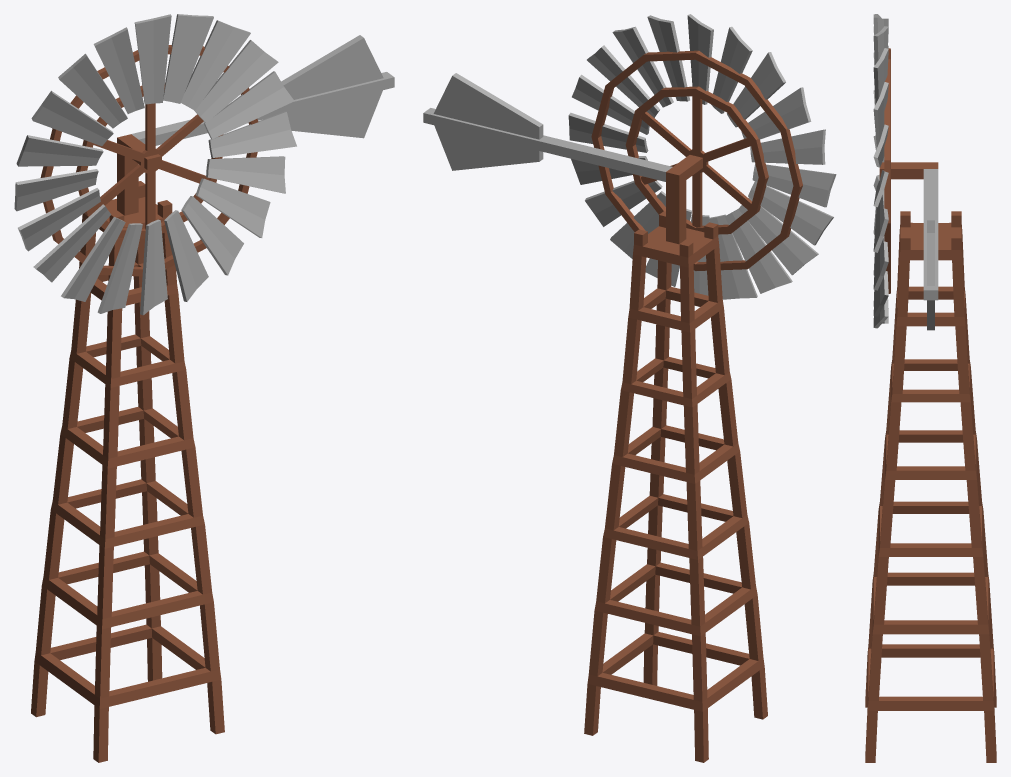
The model's file is Windmill.fbx.
3 views of the same model, side by side, from view 1: azimuth 30°, elevation 25°; view 2: azimuth 150°, elevation 25°; view 3: azimuth 270°, elevation 25° (orthographic). The views are drawn at different scales.
Parts seen in each view (by area): view 1: Windmill, Windmill_Blades; view 2: Windmill, Windmill_Blades; view 3: Windmill, Windmill_Blades.
Boxes of the visible parts, x1,y1,x2,y2 form: Windmill: [31, 35, 394, 762]; Windmill_Blades: [14, 14, 296, 315]; Windmill: [423, 73, 767, 762]; Windmill_Blades: [568, 14, 836, 299]; Windmill: [865, 162, 996, 762]; Windmill_Blades: [873, 14, 890, 328].
Bounding box in the file's own units: 651 × 1120 × 190.
